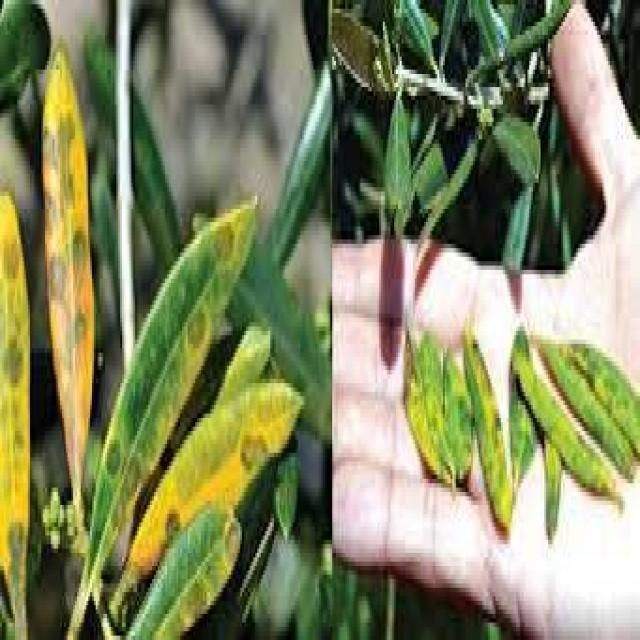OlivePeacockSpot: (84, 196, 256, 579), (128, 378, 302, 570), (45, 48, 90, 496), (511, 331, 618, 496), (0, 192, 38, 636), (539, 340, 638, 479), (127, 522, 240, 636), (462, 326, 511, 532), (578, 353, 638, 457)
